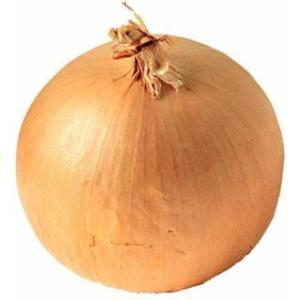onion: (16, 20, 284, 294)
